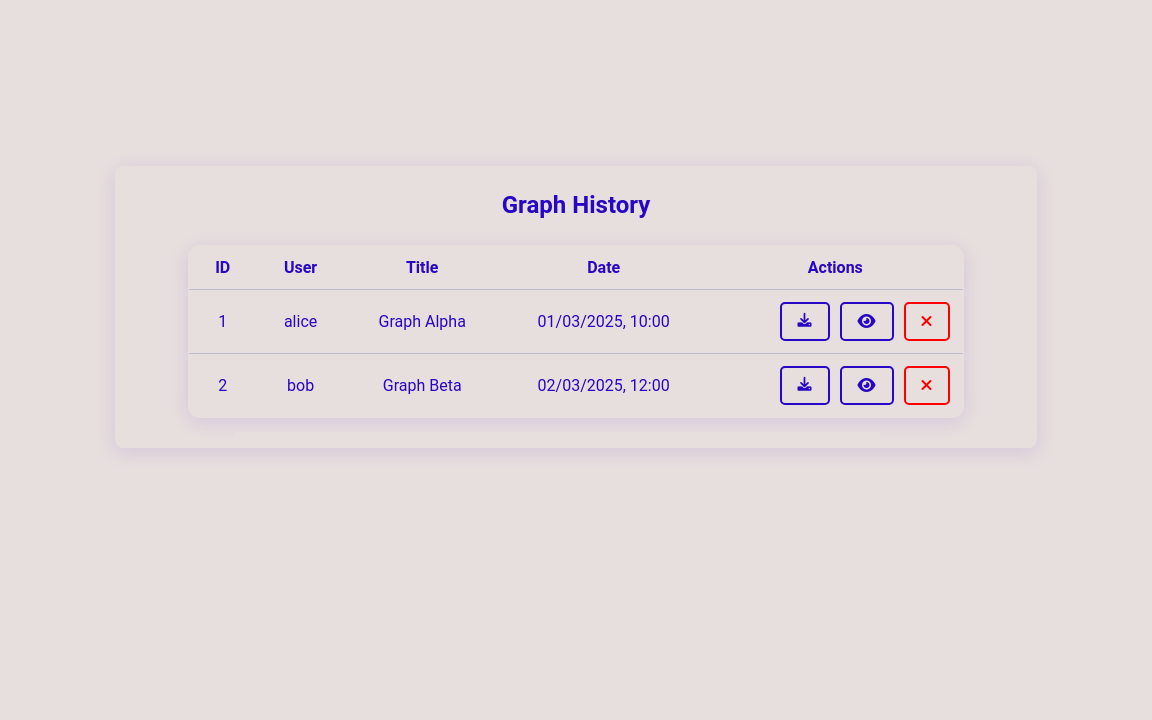
History Component — modal affichage graphe (B2) › la modal s'affiche après clic sur view
Expected: the text "Graph Alpha" is shown, 345,290 -> 499,354
What coordinates should you click on to do the following:
click the button named "View graph" in the row of "alice"
I would click on:
 (866, 322)
Its box is 840,302 -> 894,341.
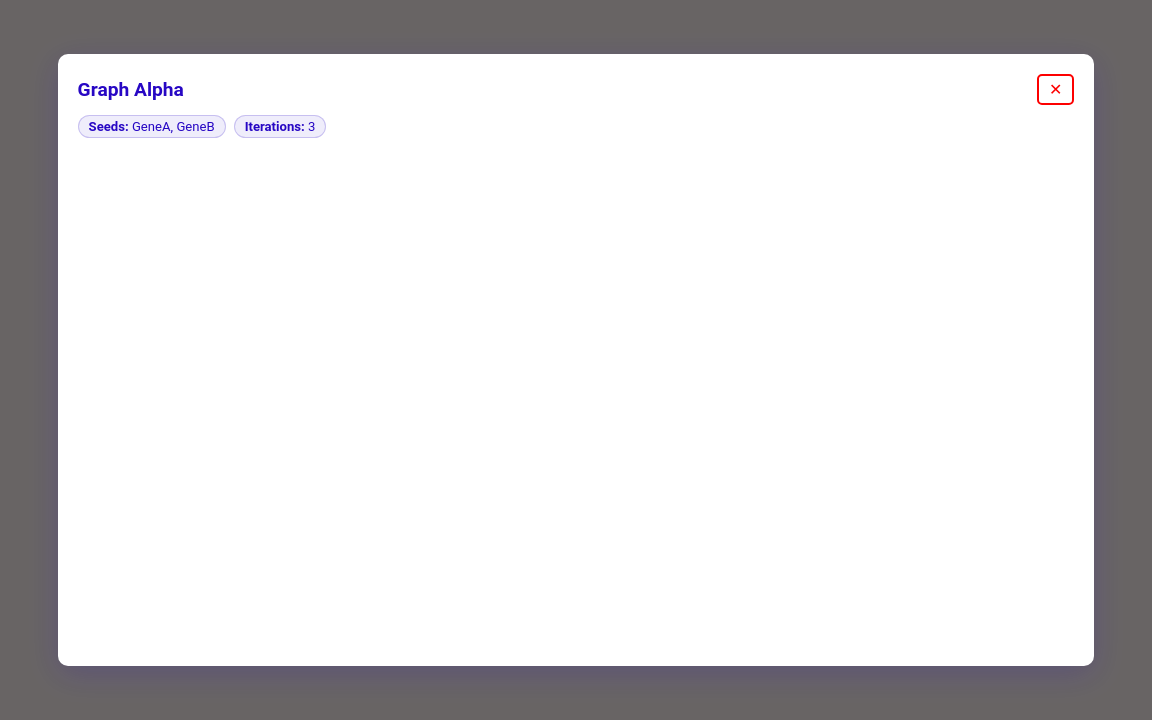
Now the element with test id "graph-modal" is shown
